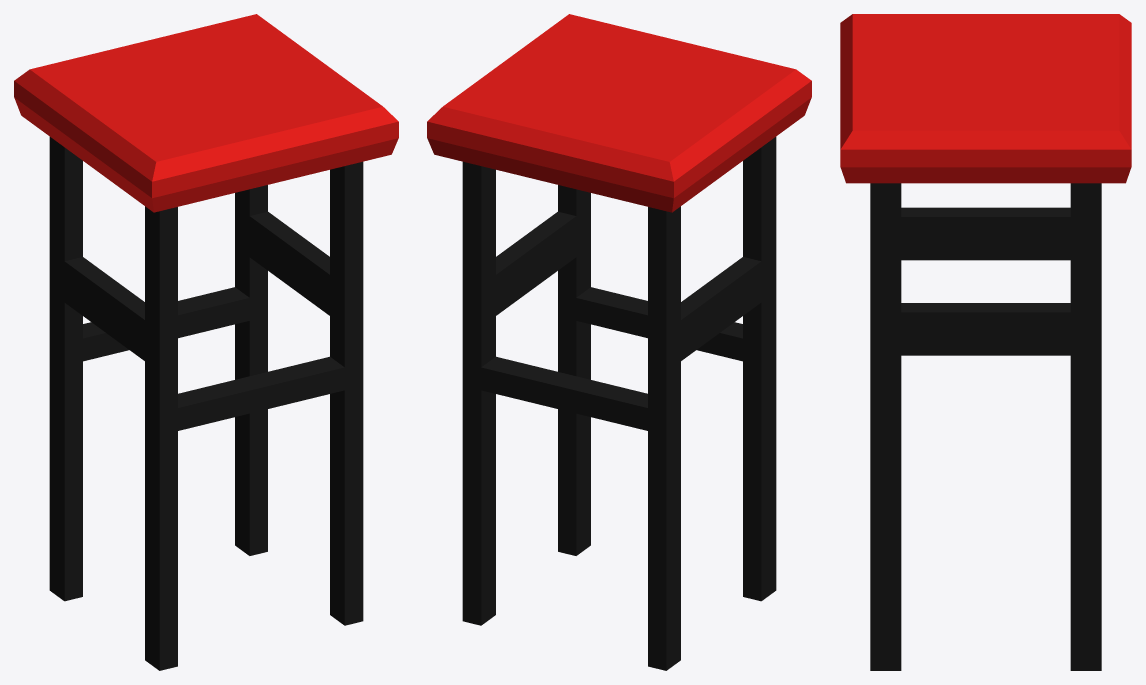
The model's file is taburete_n1.fbx.
The picture shows the model from 3 angles, left to right: view 1: azimuth 30°, elevation 25°; view 2: azimuth 150°, elevation 25°; view 3: azimuth 270°, elevation 25°; orthographic projection. The views are drawn at different scales.
Parts seen in each view (by area): view 1: taburetes; view 2: taburetes; view 3: taburetes.
Boxes of the visible parts, <box> form: taburetes: <box>14,14,398,670</box>; taburetes: <box>427,14,811,670</box>; taburetes: <box>840,14,1131,670</box>.
Size of the model in its own units: 44.6 by 89.49 by 43.22.
